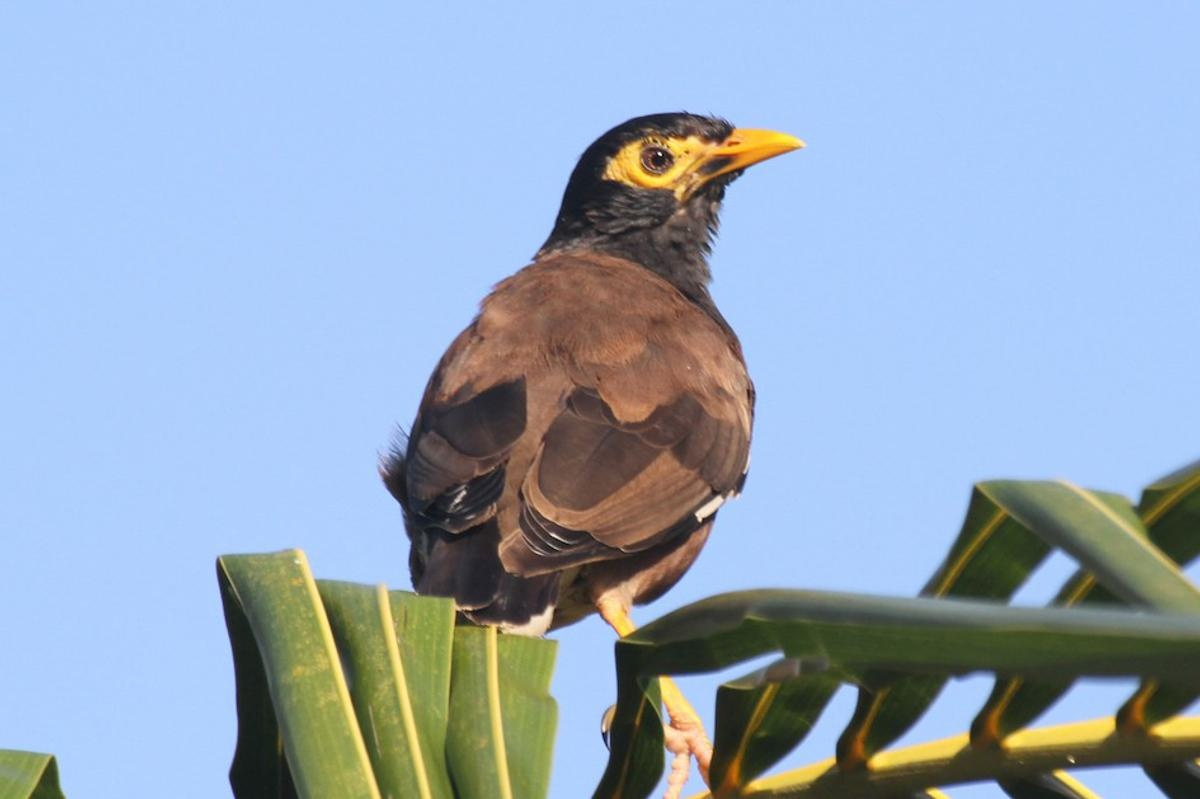myna: (417, 55, 847, 666)
